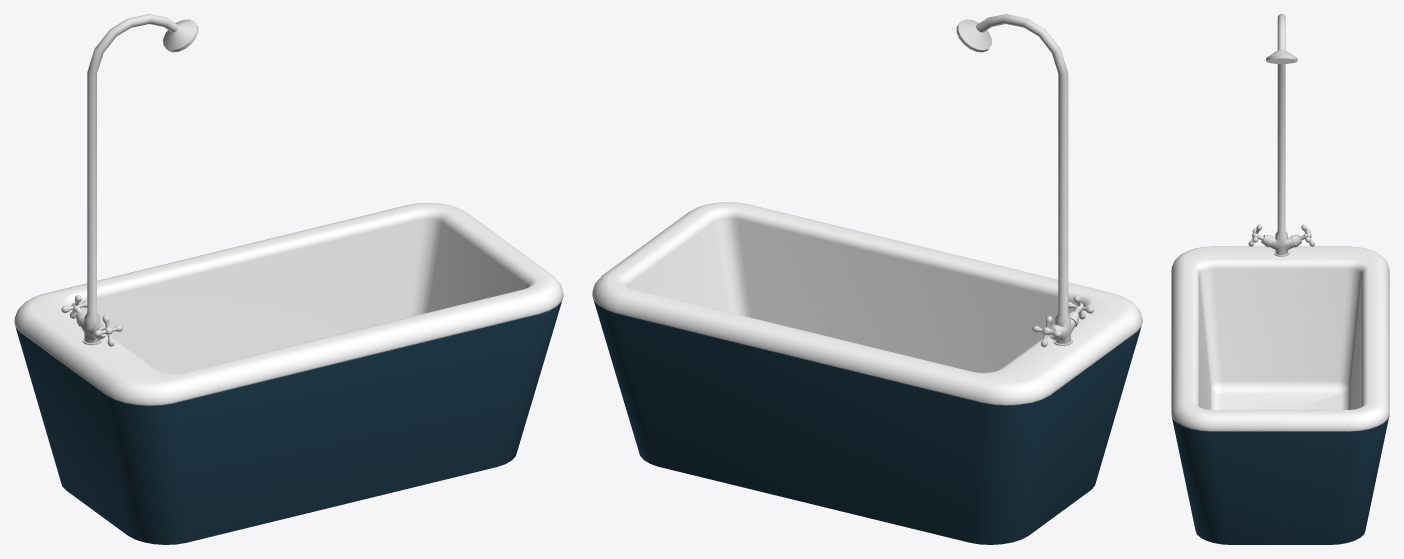
Rendered from Bath.fbx.
3 views of the same model, side by side, from view 1: azimuth 30°, elevation 25°; view 2: azimuth 150°, elevation 25°; view 3: azimuth 270°, elevation 25° (orthographic). The views are drawn at different scales.
Parts seen in each view (by area): view 1: Bath; view 2: Bath; view 3: Bath.
Part boxes in pixels (x1,y1,x2,y2): Bath: [14, 14, 563, 544]; Bath: [592, 14, 1142, 544]; Bath: [1171, 14, 1389, 544].
Bounding box in the file's own units: 200 × 206 × 104.
